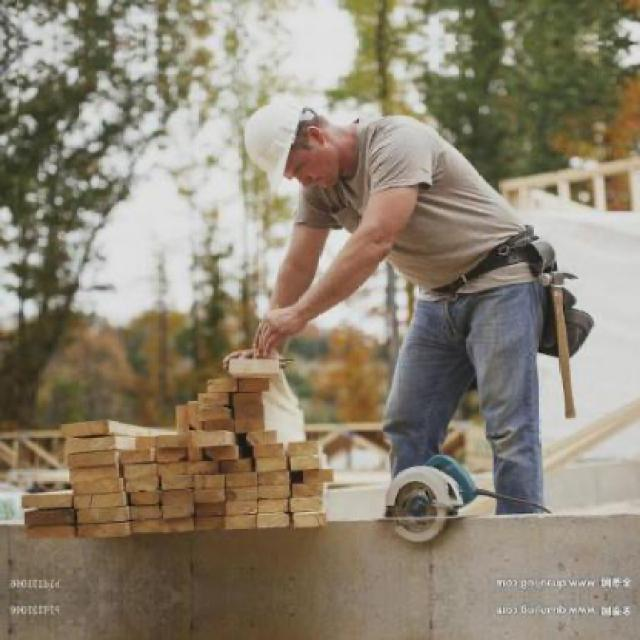helmet: (237, 96, 343, 199)
